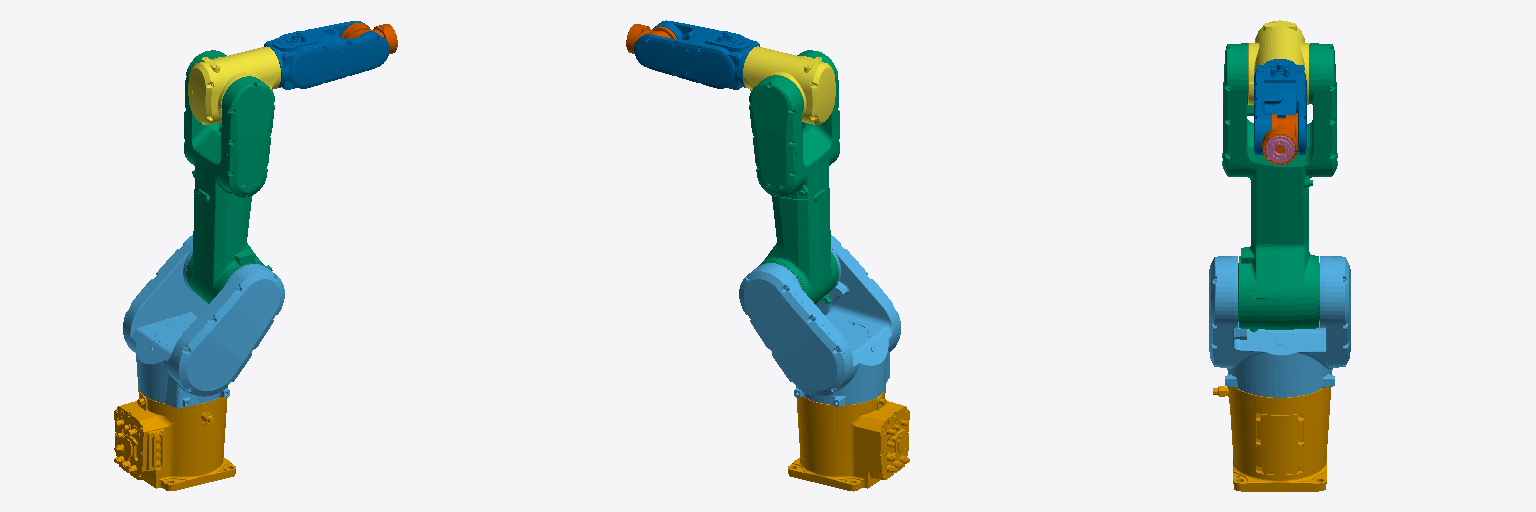
robot.urdf — IRB1300_10-1150-STD:
<?xml version="1.0" ?>
<robot name="IRB1300_10-1150-STD">

<link name="base_link">
  <inertial>
    <origin xyz="-0.022150462495591508 -0.0006435784904621686 0.12757819816402227" rpy="0 0 0"/>
    <mass value="103.55483852571481"/>
    <inertia ixx="0.88124" iyy="1.112059" izz="0.923682" ixy="-0.00573" iyz="0.000881" ixz="-0.026868"/>
  </inertial>
  <visual>
    <origin xyz="0 0 0" rpy="0 0 0"/>
    <geometry>
      <mesh filename="package://IRB1300_10-1150-STD_description/meshes/base_link.stl" scale="0.001 0.001 0.001"/>
    </geometry>
    <material name="silver"/>
  </visual>
  <collision>
    <origin xyz="0 0 0" rpy="0 0 0"/>
    <geometry>
      <mesh filename="package://IRB1300_10-1150-STD_description/meshes/base_link.stl" scale="0.001 0.001 0.001"/>
    </geometry>
  </collision>
</link>

<link name="link1_1400_v1_1">
  <inertial>
    <origin xyz="0.03791992519138535 -0.0007828926695919957 0.14588972495105984" rpy="0 0 0"/>
    <mass value="128.23181969848397"/>
    <inertia ixx="2.60849" iyy="1.993103" izz="2.33626" ixy="-0.01474" iyz="-0.015603" ixz="-0.578713"/>
  </inertial>
  <visual>
    <origin xyz="-0.0 -0.0 -0.254" rpy="0 0 0"/>
    <geometry>
      <mesh filename="package://IRB1300_10-1150-STD_description/meshes/link1_1400_v1_1.stl" scale="0.001 0.001 0.001"/>
    </geometry>
    <material name="silver"/>
  </visual>
  <collision>
    <origin xyz="-0.0 -0.0 -0.254" rpy="0 0 0"/>
    <geometry>
      <mesh filename="package://IRB1300_10-1150-STD_description/meshes/link1_1400_v1_1.stl" scale="0.001 0.001 0.001"/>
    </geometry>
  </collision>
</link>

<link name="link2_1150_v1_1">
  <inertial>
    <origin xyz="-0.010943214304762139 -0.0953337954027344 0.24498309991586187" rpy="0 0 0"/>
    <mass value="121.24087782437648"/>
    <inertia ixx="5.864157" iyy="5.441047" izz="0.811102" ixy="0.000556" iyz="-0.046876" ixz="0.022775"/>
  </inertial>
  <visual>
    <origin xyz="-0.15 -0.0945 -0.544" rpy="0 0 0"/>
    <geometry>
      <mesh filename="package://IRB1300_10-1150-STD_description/meshes/link2_1150_v1_1.stl" scale="0.001 0.001 0.001"/>
    </geometry>
    <material name="silver"/>
  </visual>
  <collision>
    <origin xyz="-0.15 -0.0945 -0.544" rpy="0 0 0"/>
    <geometry>
      <mesh filename="package://IRB1300_10-1150-STD_description/meshes/link2_1150_v1_1.stl" scale="0.001 0.001 0.001"/>
    </geometry>
  </collision>
</link>

<link name="link3_v1_1">
  <inertial>
    <origin xyz="0.005827015471299851 -0.07136244442560104 0.011391891178956559" rpy="0 0 0"/>
    <mass value="34.705682840402375"/>
    <inertia ixx="0.116412" iyy="0.203477" izz="0.177302" ixy="2.6e-05" iyz="-0.000865" ixz="-0.012149"/>
  </inertial>
  <visual>
    <origin xyz="-0.15 -0.07 -1.119" rpy="0 0 0"/>
    <geometry>
      <mesh filename="package://IRB1300_10-1150-STD_description/meshes/link3_v1_1.stl" scale="0.001 0.001 0.001"/>
    </geometry>
    <material name="silver"/>
  </visual>
  <collision>
    <origin xyz="-0.15 -0.07 -1.119" rpy="0 0 0"/>
    <geometry>
      <mesh filename="package://IRB1300_10-1150-STD_description/meshes/link3_v1_1.stl" scale="0.001 0.001 0.001"/>
    </geometry>
  </collision>
</link>

<link name="link4_900_v1_1">
  <inertial>
    <origin xyz="0.13875595078261788 -0.001365146609771385 0.0013053061872190241" rpy="0 0 0"/>
    <mass value="29.00831706687216"/>
    <inertia ixx="0.070663" iyy="0.247042" izz="0.258634" ixy="0.007111" iyz="-6e-06" ixz="0.001959"/>
  </inertial>
  <visual>
    <origin xyz="-0.2795 0.0 -1.159" rpy="0 0 0"/>
    <geometry>
      <mesh filename="package://IRB1300_10-1150-STD_description/meshes/link4_900_v1_1.stl" scale="0.001 0.001 0.001"/>
    </geometry>
    <material name="silver"/>
  </visual>
  <collision>
    <origin xyz="-0.2795 0.0 -1.159" rpy="0 0 0"/>
    <geometry>
      <mesh filename="package://IRB1300_10-1150-STD_description/meshes/link4_900_v1_1.stl" scale="0.001 0.001 0.001"/>
    </geometry>
  </collision>
</link>

<link name="link5-foundry_v1_1">
  <inertial>
    <origin xyz="0.02328401065607666 0.02759068302511393 0.00553535777564762" rpy="0 0 0"/>
    <mass value="4.746395424728338"/>
    <inertia ixx="0.004149" iyy="0.008564" izz="0.008188" ixy="0.000862" iyz="1e-06" ixz="2.3e-05"/>
  </inertial>
  <visual>
    <origin xyz="-0.574056 0.019 -1.153523" rpy="0 0 0"/>
    <geometry>
      <mesh filename="package://IRB1300_10-1150-STD_description/meshes/link5-foundry_v1_1.stl" scale="0.001 0.001 0.001"/>
    </geometry>
    <material name="silver"/>
  </visual>
  <collision>
    <origin xyz="-0.574056 0.019 -1.153523" rpy="0 0 0"/>
    <geometry>
      <mesh filename="package://IRB1300_10-1150-STD_description/meshes/link5-foundry_v1_1.stl" scale="0.001 0.001 0.001"/>
    </geometry>
  </collision>
</link>

<link name="link6-foundry_v1_1">
  <inertial>
    <origin xyz="0.0034625159857836207 5.415309820712119e-05 -8.030621183752196e-05" rpy="0 0 0"/>
    <mass value="0.13269866577885717"/>
    <inertia ixx="7.9e-05" iyy="4e-05" izz="4.1e-05" ixy="-0.0" iyz="0.0" ixz="0.0"/>
  </inertial>
  <visual>
    <origin xyz="-0.659 0.0 -1.159" rpy="0 0 0"/>
    <geometry>
      <mesh filename="package://IRB1300_10-1150-STD_description/meshes/link6-foundry_v1_1.stl" scale="0.001 0.001 0.001"/>
    </geometry>
    <material name="silver"/>
  </visual>
  <collision>
    <origin xyz="-0.659 0.0 -1.159" rpy="0 0 0"/>
    <geometry>
      <mesh filename="package://IRB1300_10-1150-STD_description/meshes/link6-foundry_v1_1.stl" scale="0.001 0.001 0.001"/>
    </geometry>
  </collision>
</link>

<joint name="j1" type="continuous">
  <origin xyz="0.0 0.0 0.254" rpy="0 0 0"/>
  <parent link="base_link"/>
  <child link="link1_1400_v1_1"/>
  <axis xyz="0.0 0.0 1.0"/>
</joint>

<joint name="j2" type="continuous">
  <origin xyz="0.15 0.0945 0.29" rpy="0 0 0"/>
  <parent link="link1_1400_v1_1"/>
  <child link="link2_1150_v1_1"/>
  <axis xyz="0.0 -1.0 0.0"/>
</joint>

<joint name="j3" type="continuous">
  <origin xyz="0.0 -0.0245 0.575" rpy="0 0 0"/>
  <parent link="link2_1150_v1_1"/>
  <child link="link3_v1_1"/>
  <axis xyz="-0.0 -1.0 0.0"/>
</joint>

<joint name="j4" type="continuous">
  <origin xyz="0.1295 -0.07 0.04" rpy="0 0 0"/>
  <parent link="link3_v1_1"/>
  <child link="link4_900_v1_1"/>
  <axis xyz="1.0 0.0 0.0"/>
</joint>

<joint name="j5" type="continuous">
  <origin xyz="0.294556 -0.019 -0.005477" rpy="0 0 0"/>
  <parent link="link4_900_v1_1"/>
  <child link="link5-foundry_v1_1"/>
  <axis xyz="0.0 -1.0 0.0"/>
</joint>

<joint name="j6" type="continuous">
  <origin xyz="0.084944 0.019 0.005477" rpy="0 0 0"/>
  <parent link="link5-foundry_v1_1"/>
  <child link="link6-foundry_v1_1"/>
  <axis xyz="1.0 0.0 0.0"/>
</joint>

</robot>

--- Facts derived from the render (not from the file) ---
3 views of the same robot in one strip: view 1: azimuth 30°, elevation 25°; view 2: azimuth 150°, elevation 25°; view 3: azimuth 270°, elevation 25° (orthographic).
Model IRB1300_10-1150-STD with 7 links and 6 joints (6 continuous), rooted at base_link, posed all joints at 0.
Visible links, largest first — view 1: link1_1400_v1_1, link2_1150_v1_1, base_link, link4_900_v1_1, link3_v1_1, link5-foundry_v1_1; view 2: link1_1400_v1_1, link2_1150_v1_1, base_link, link4_900_v1_1, link3_v1_1, link5-foundry_v1_1; view 3: link2_1150_v1_1, link1_1400_v1_1, base_link, link4_900_v1_1, link3_v1_1, link5-foundry_v1_1, link6-foundry_v1_1.
Boxes of the visible links, left/top/right/bottom form: link1_1400_v1_1: left=123, top=235, right=284, bottom=408; link2_1150_v1_1: left=184, top=50, right=274, bottom=303; base_link: left=114, top=388, right=235, bottom=490; link4_900_v1_1: left=264, top=21, right=389, bottom=89; link3_v1_1: left=188, top=46, right=280, bottom=124; link5-foundry_v1_1: left=341, top=23, right=397, bottom=53; link1_1400_v1_1: left=739, top=235, right=900, bottom=406; link2_1150_v1_1: left=749, top=50, right=839, bottom=303; base_link: left=788, top=389, right=909, bottom=491; link4_900_v1_1: left=634, top=20, right=759, bottom=89; link3_v1_1: left=743, top=46, right=835, bottom=124; link5-foundry_v1_1: left=626, top=24, right=676, bottom=53; link2_1150_v1_1: left=1222, top=43, right=1337, bottom=331; link1_1400_v1_1: left=1209, top=256, right=1350, bottom=397; base_link: left=1213, top=386, right=1330, bottom=491; link4_900_v1_1: left=1254, top=59, right=1306, bottom=154; link3_v1_1: left=1248, top=20, right=1308, bottom=104; link5-foundry_v1_1: left=1262, top=113, right=1297, bottom=164; link6-foundry_v1_1: left=1265, top=136, right=1294, bottom=162.
Size in the robot's own frame: 0.8625 by 0.34 by 1.24 metres.
7 mesh visuals loaded from 7 distinct referenced files (7 binary STL).